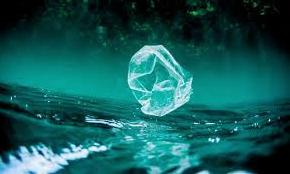Trash: (124, 36, 204, 125)
